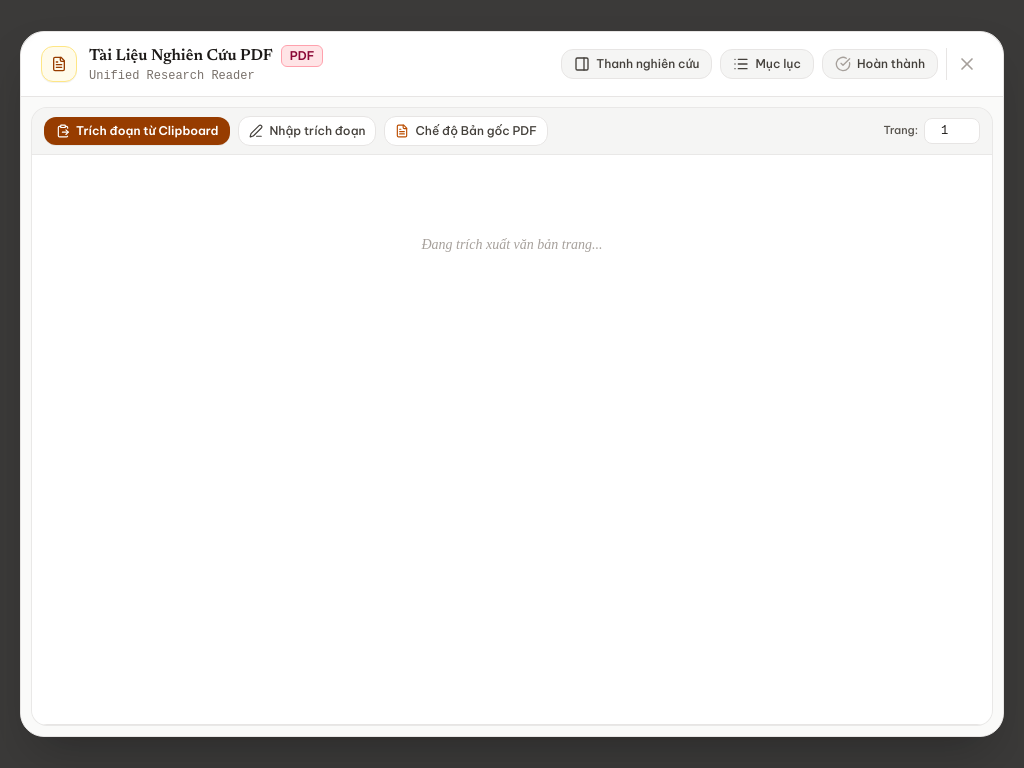
PDF Selection Affordance & Research Action Strip (Red Stage) › 4. UnifiedResearchReader with format="pdf" mounts UnifiedSelectionToolbar after PDF capture flow provides valid selection
Click clipboard capture
Click the button with test id "pdf-capture-clipboard-btn": (137, 131) [44, 117, 230, 145]
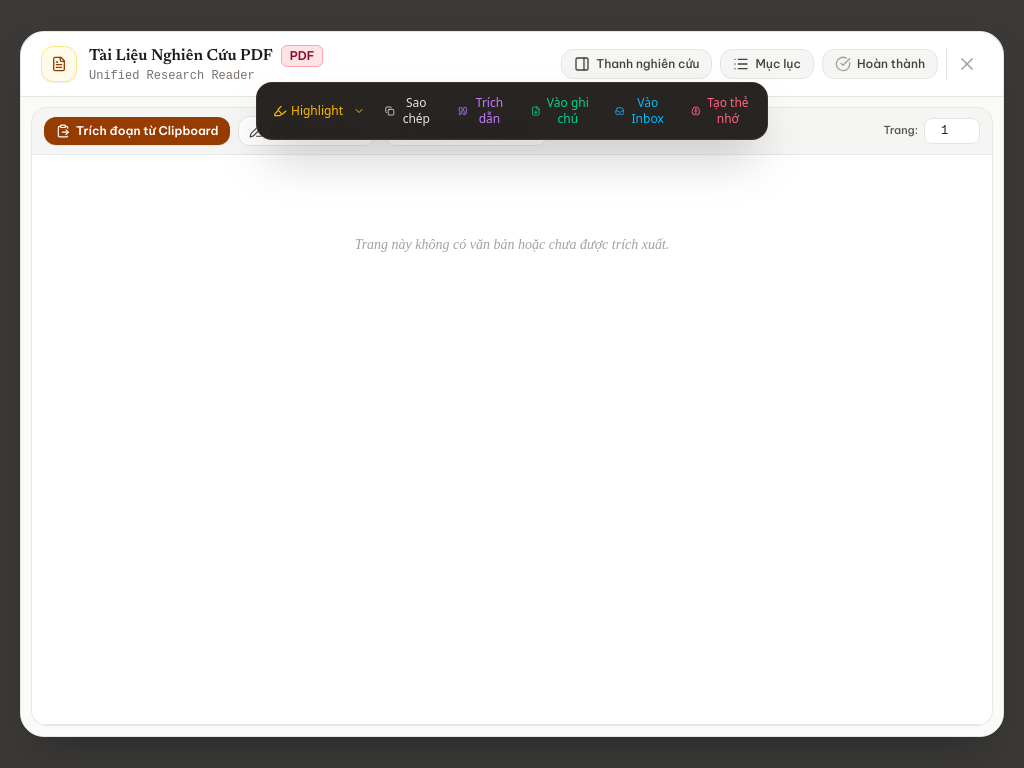
Now the element named "Công cụ trích xuất nghiên cứu" is shown, box [256, 82, 768, 140]
Now the button "Highlight" is shown, box [263, 97, 353, 125]
Now the button "Sao chép" is shown, box [375, 89, 444, 133]
